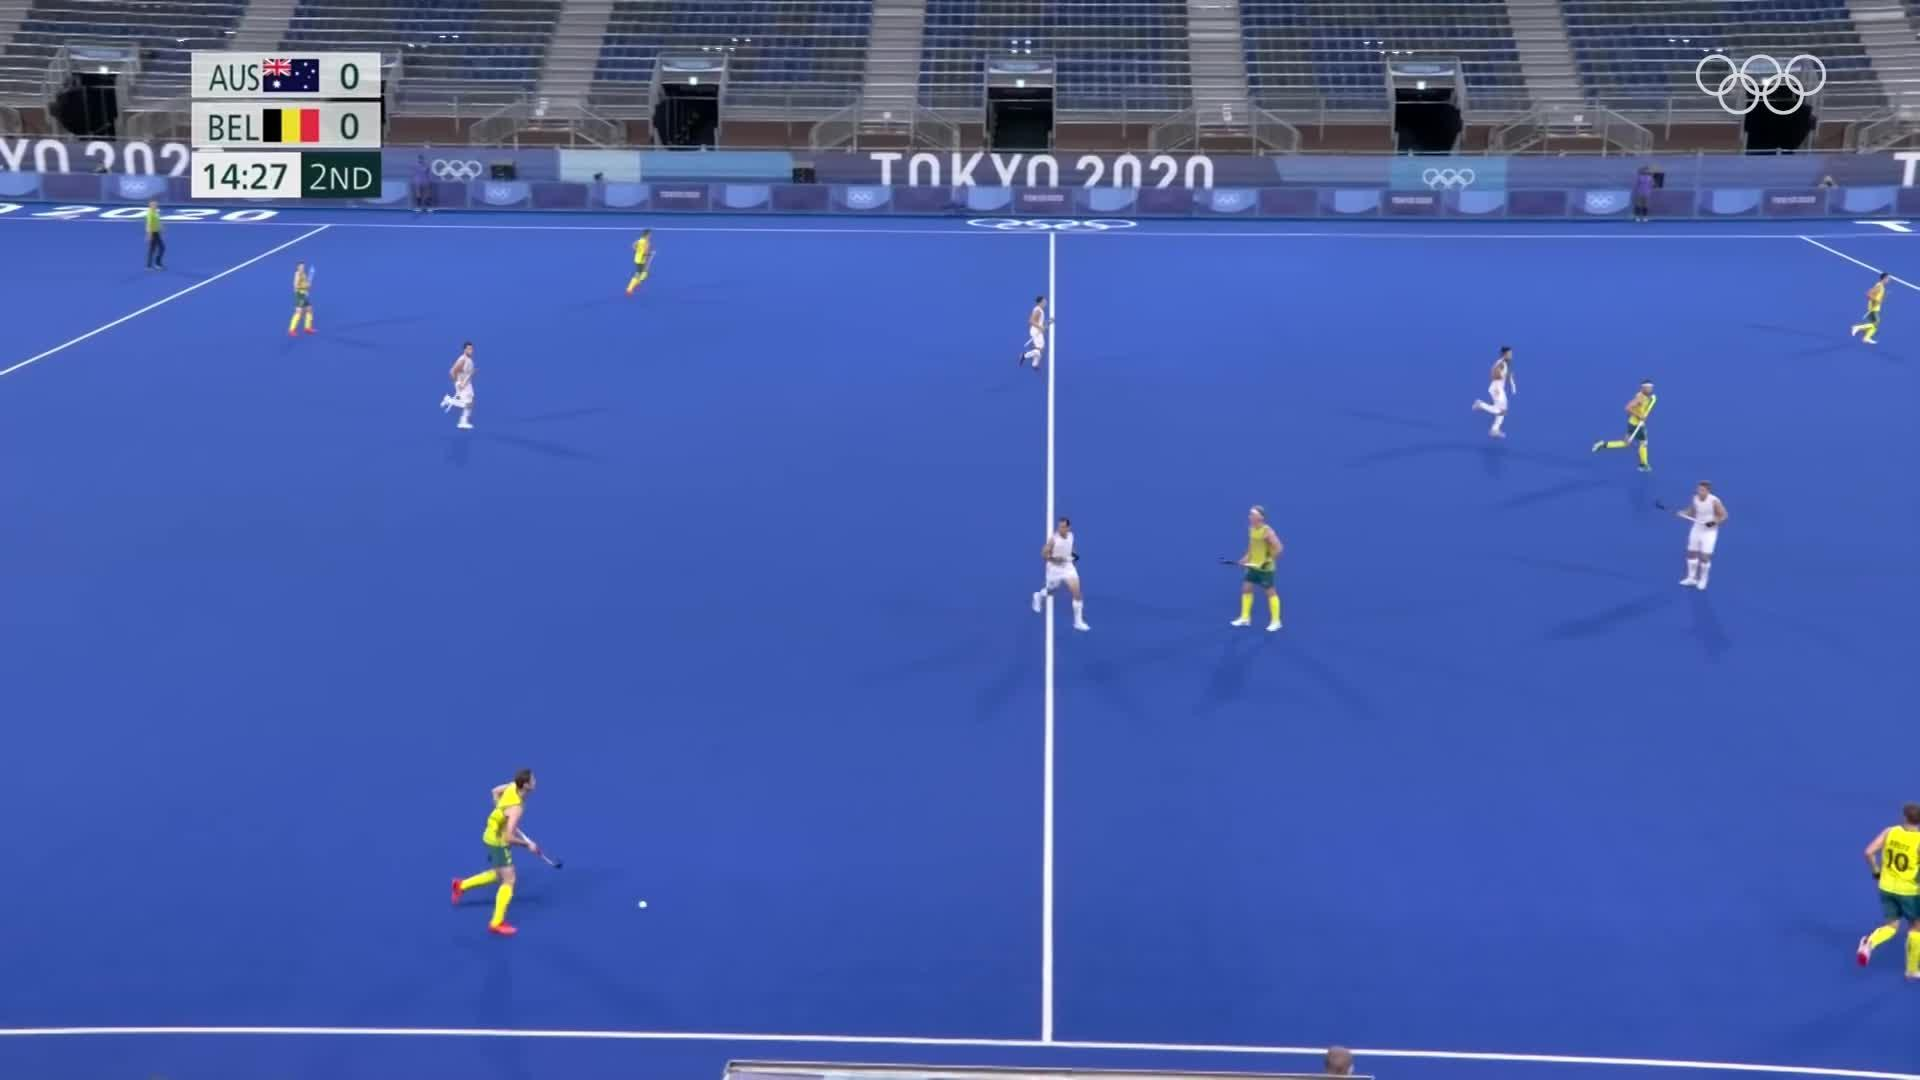ball: (632, 895, 651, 913)
